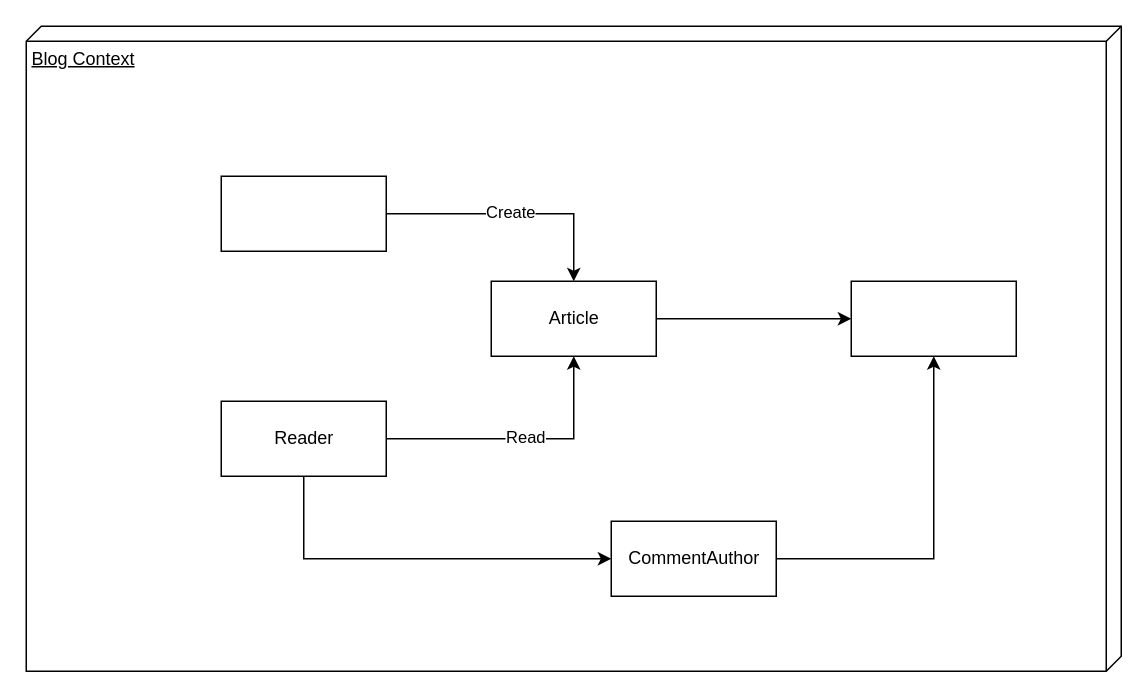
The diagram is 1148 pixels wide and 698 high, and some of its shapes have lost their labels. The centre of each missing label's shape, as x and y in pixels:
ArticleAuthor: point 303,213
Comment: point 933,318
